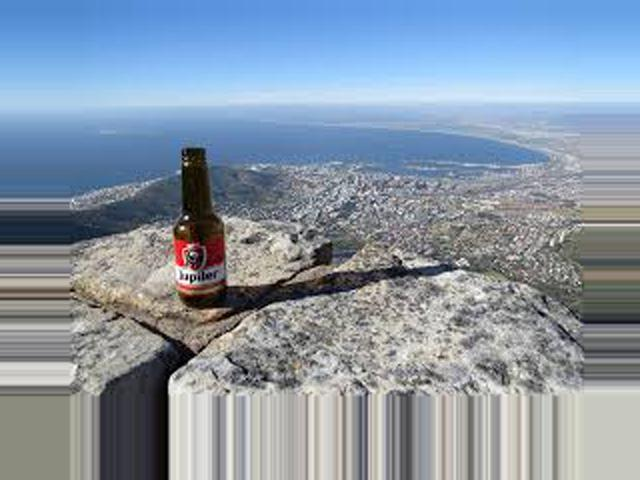beer: (172, 146, 226, 302)
